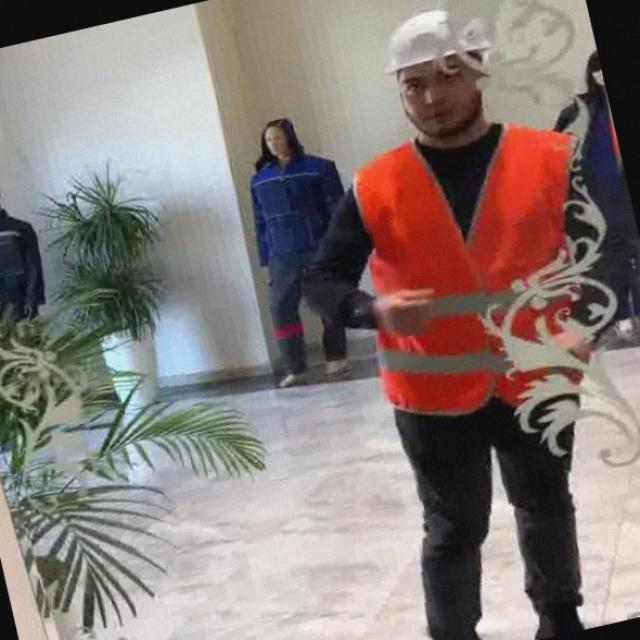helmet: (376, 9, 495, 81)
safety_vest: (347, 122, 600, 431)
